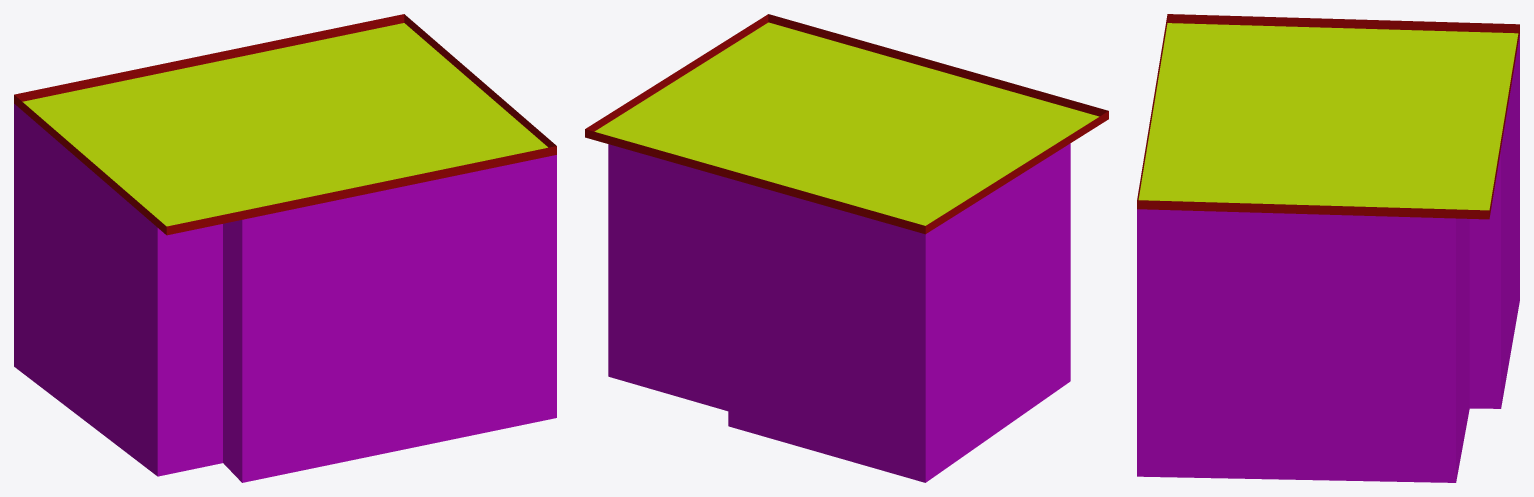
File: bgj_346.glb
The picture shows the model from 3 angles, left to right: view 1: azimuth 30°, elevation 25°; view 2: azimuth 150°, elevation 25°; view 3: azimuth 270°, elevation 25°; orthographic projection. The views are drawn at different scales.
Visible parts, largest first — view 1: bgj_346; view 2: bgj_346; view 3: bgj_346.
Part boxes in pixels (left/top/right/bottom): bgj_346: left=14, top=14, right=556, bottom=482; bgj_346: left=585, top=14, right=1108, bottom=482; bgj_346: left=1137, top=14, right=1519, bottom=482.
Size of the model in its own units: 16.31 by 10.71 by 13.44.
